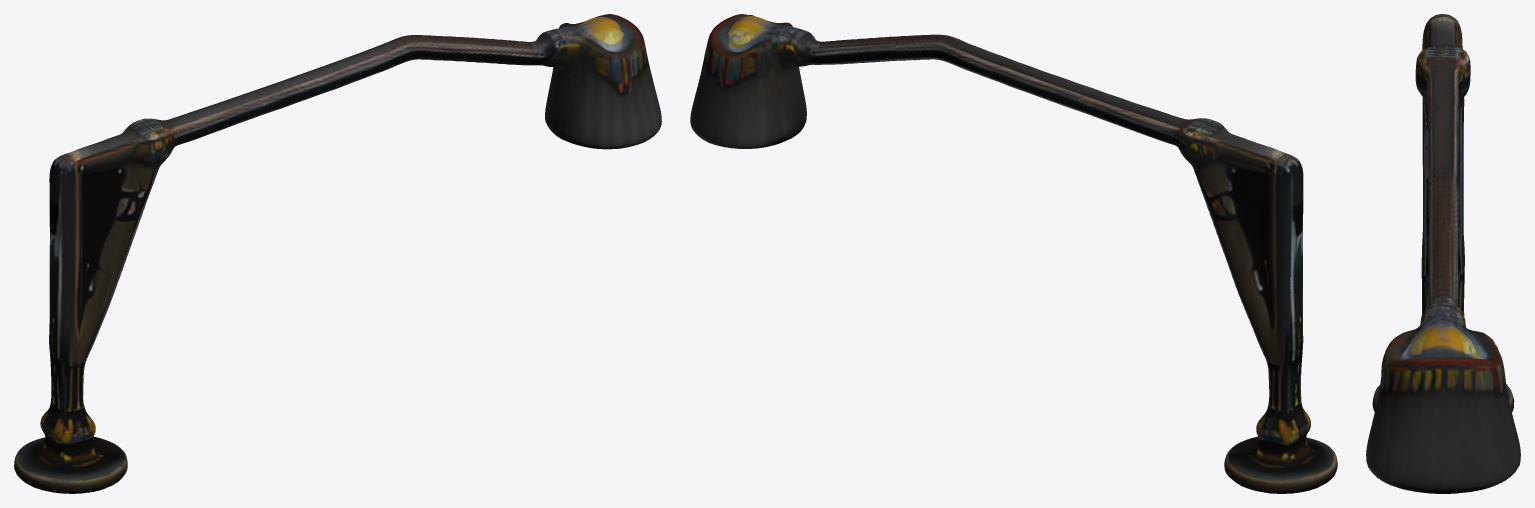
The picture shows the model from 3 angles, left to right: view 1: azimuth 30°, elevation 25°; view 2: azimuth 150°, elevation 25°; view 3: azimuth 270°, elevation 25°; orthographic projection. The views are drawn at different scales.
Parts seen in each view (by area): view 1: world; view 2: world; view 3: world.
Boxes of the visible parts, x1,y1,x2,y2 form: world: (14, 14, 661, 493); world: (690, 14, 1337, 493); world: (1366, 14, 1520, 493).
Size of the model in its own units: 0.404 by 0.2168 by 0.069.
1 material, 1 textured.
